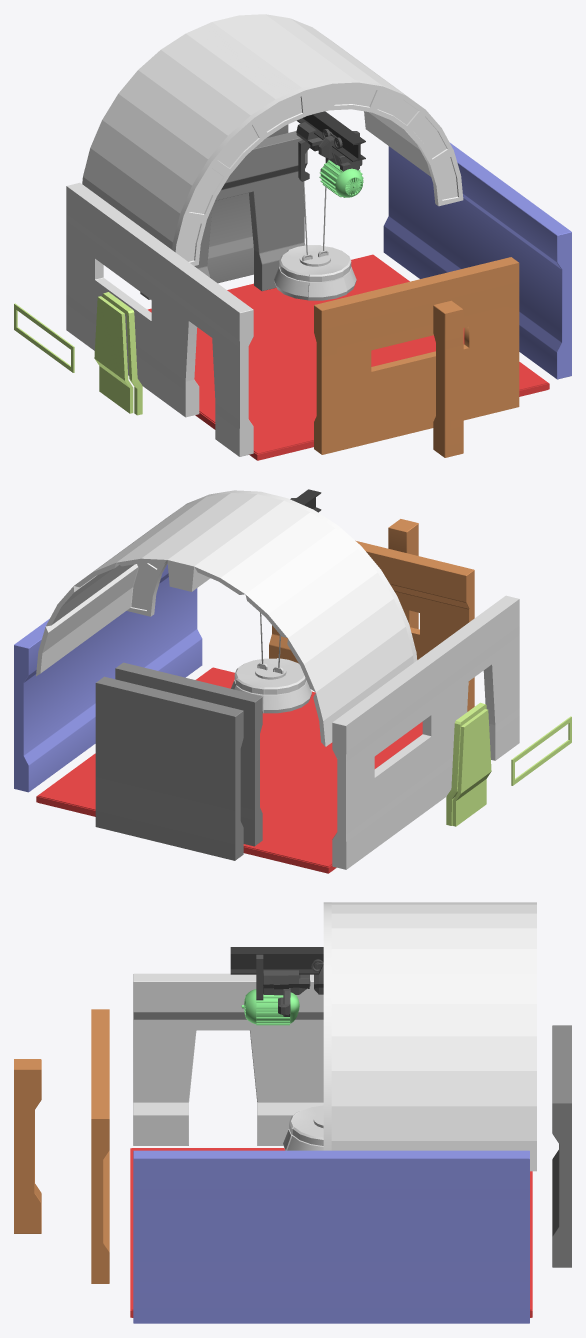
Rendered from BunkerParts.FBX.
3 renders of one model, top to bottom at view 1: azimuth 30°, elevation 25°; view 2: azimuth 150°, elevation 25°; view 3: azimuth 270°, elevation 25°, orthographic. The views are drawn at different scales.
Visible parts, largest first — view 1: PotolokPart_b0, wall_b003, wall_b1, wall_b00, Flore_b0, Wall_b2, Stolb, Magnit, wall_b002, DoorB0, Relsa, RamaDoorB0 (+4 smaller); view 2: PotolokPart_b0, wall_b1, wall_b002, wall_b00, Flore_b0, wall_b003, Wall_b2, Magnit, DoorB0, Stolb, RamaDoorB0, rama_b0; view 3: wall_b00, PotolokPart_b0, wall_b1, wall_b003, wall_b002, Stolb, Relsa, Funekuler, Flore_b0, Magnit, motor.
Part boxes in pixels (bbox=[...]): PotolokPart_b0: bbox=[82, 14, 463, 265]; wall_b003: bbox=[314, 257, 519, 454]; wall_b1: bbox=[66, 182, 253, 456]; wall_b00: bbox=[383, 142, 571, 379]; Flore_b0: bbox=[147, 254, 549, 460]; Wall_b2: bbox=[194, 131, 307, 291]; Stolb: bbox=[433, 300, 463, 457]; Magnit: bbox=[274, 181, 356, 300]; wall_b002: bbox=[140, 124, 288, 299]; DoorB0: bbox=[94, 296, 133, 413]; Relsa: bbox=[297, 111, 365, 161]; RamaDoorB0: bbox=[102, 292, 142, 415]; PotolokPart_b0: bbox=[36, 490, 417, 746]; wall_b1: bbox=[332, 595, 519, 869]; wall_b002: bbox=[95, 676, 243, 860]; wall_b00: bbox=[14, 564, 202, 792]; Flore_b0: bbox=[36, 667, 422, 873]; wall_b003: bbox=[269, 540, 474, 711]; Wall_b2: bbox=[115, 662, 262, 846]; Magnit: bbox=[231, 612, 311, 713]; DoorB0: bbox=[452, 709, 491, 826]; Stolb: bbox=[388, 519, 418, 628]; RamaDoorB0: bbox=[446, 702, 486, 825]; rama_b0: bbox=[511, 716, 571, 785]; wall_b00: bbox=[133, 1150, 529, 1323]; PotolokPart_b0: bbox=[323, 902, 536, 1171]; wall_b1: bbox=[133, 973, 323, 1145]; wall_b003: bbox=[91, 1009, 109, 1283]; wall_b002: bbox=[552, 1025, 571, 1267]; Stolb: bbox=[14, 1059, 41, 1233]; Relsa: bbox=[230, 947, 323, 974]; Funekuler: bbox=[256, 954, 310, 1016]; Flore_b0: bbox=[130, 1148, 532, 1317]; Magnit: bbox=[283, 1105, 323, 1150]; motor: bbox=[241, 989, 299, 1025].
Size of the model in its own units: 91.75 by 54.96 by 87.92.
